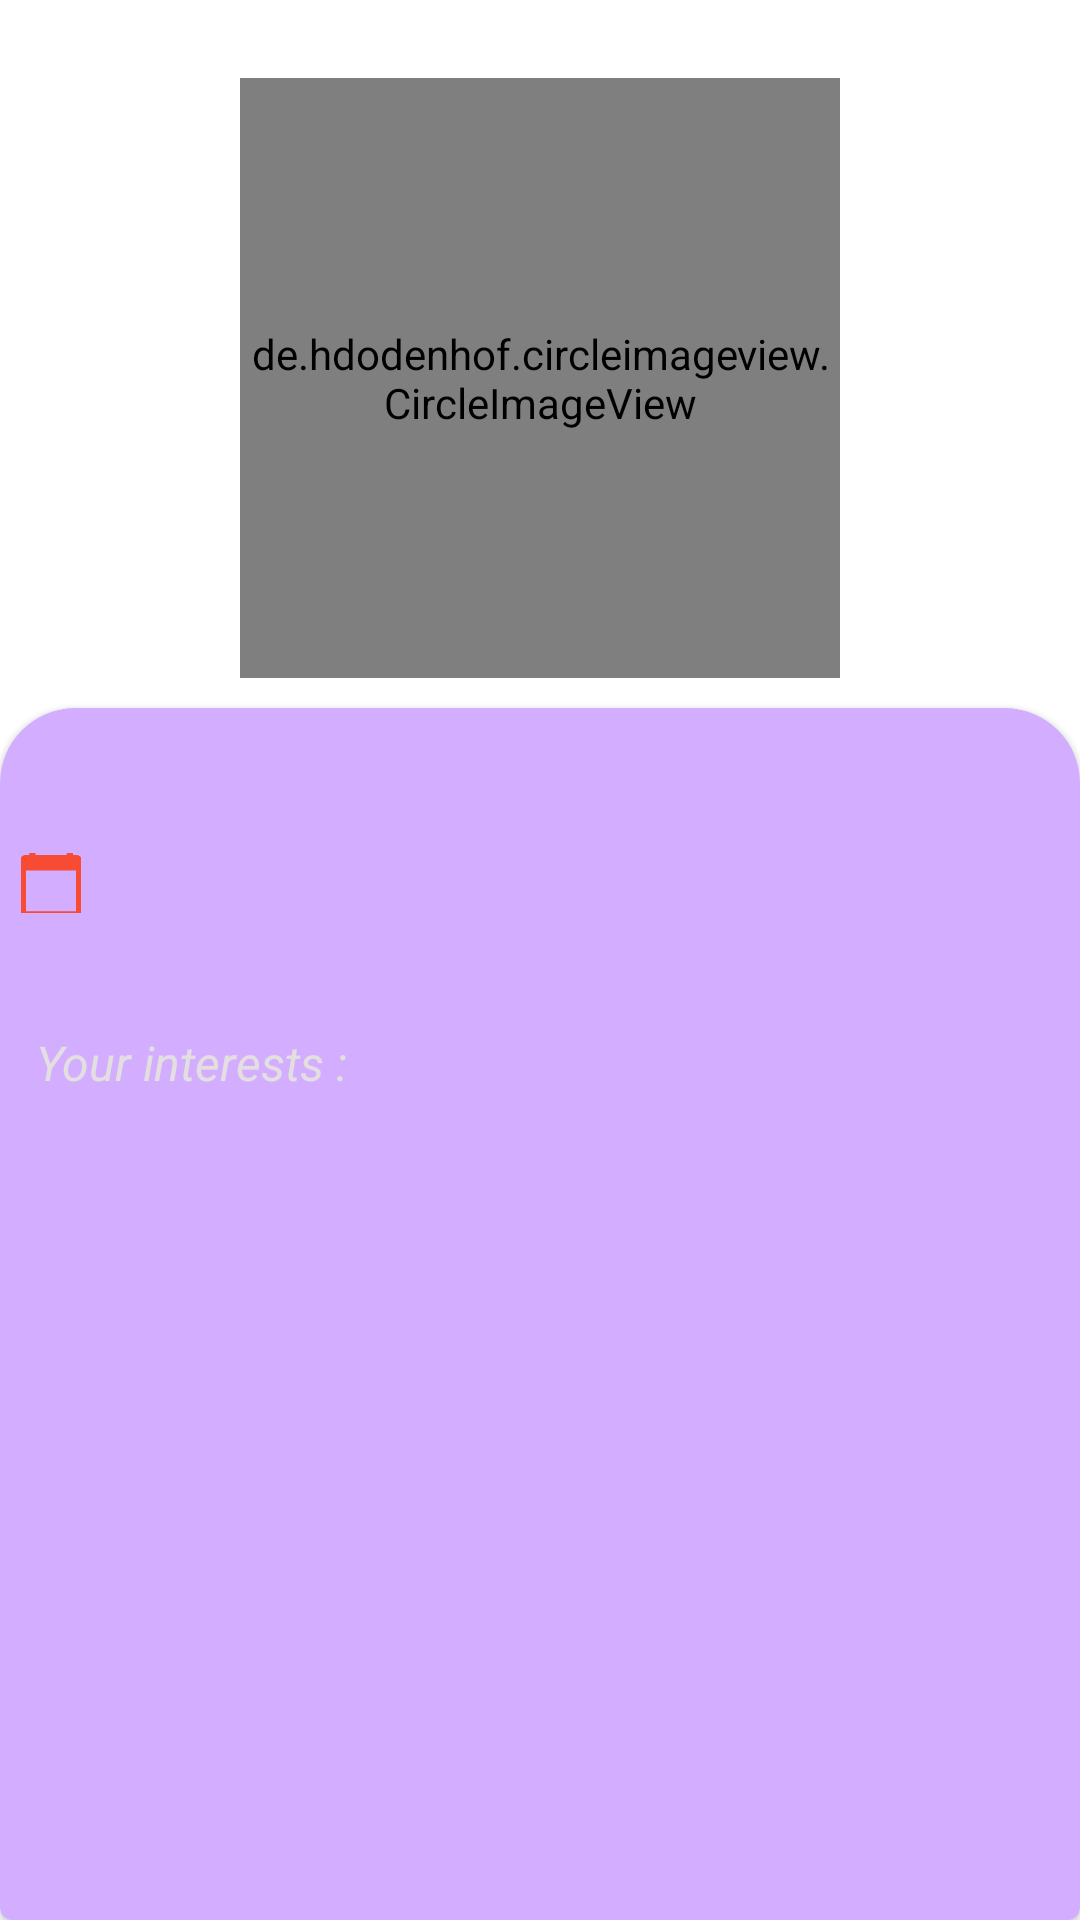

Where icons sit on this 1080w x 1920h app screen, as bbox=[x1, y1, x2, y2]:
calendar: bbox=[21, 853, 81, 913]
